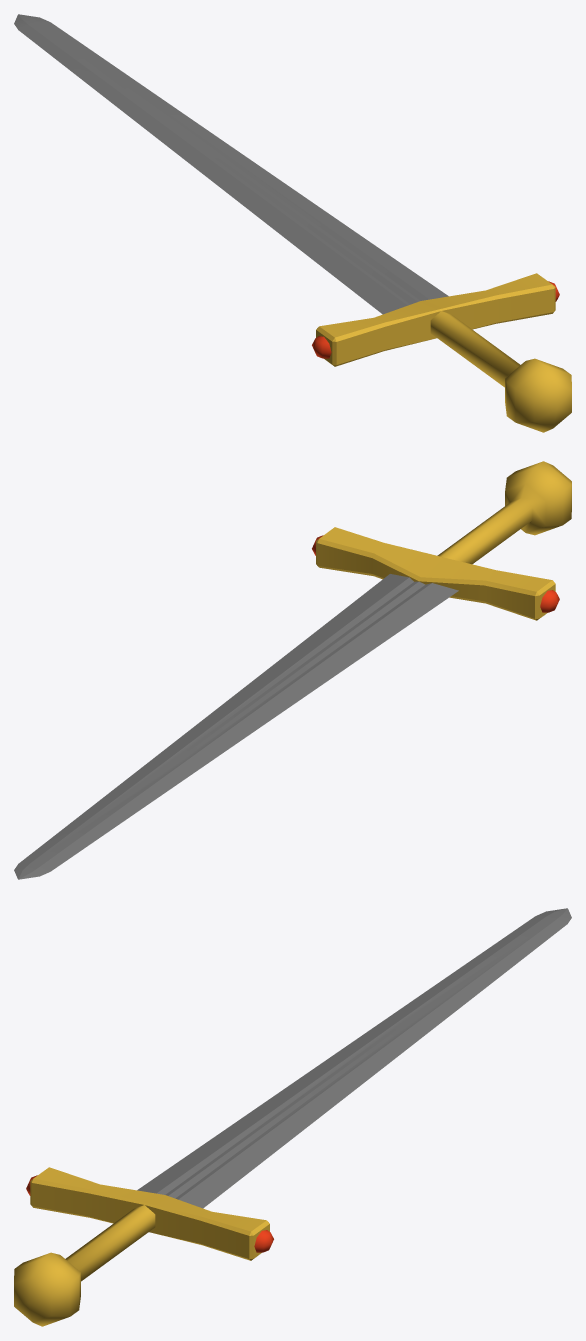
The model's file is sword_royal.glb.
The picture shows the model from 3 angles, top to bottom: view 1: azimuth 30°, elevation 25°; view 2: azimuth 150°, elevation 25°; view 3: azimuth 330°, elevation 25°; orthographic projection.
Parts seen in each view (by area): view 1: 0.130, 1.075; view 2: 0.130, 1.075; view 3: 0.130, 1.075.
Part boxes in pixels (left/top/right/bottom): 0.130: left=14, top=14, right=448, bottom=314; 1.075: left=316, top=273, right=571, bottom=432; 0.130: left=14, top=574, right=458, bottom=879; 1.075: left=316, top=461, right=571, bottom=620; 0.130: left=137, top=908, right=571, bottom=1208; 1.075: left=14, top=1167, right=269, bottom=1326.
Bounding box in the file's own units: 0.35 × 0.0932 × 1.34.
